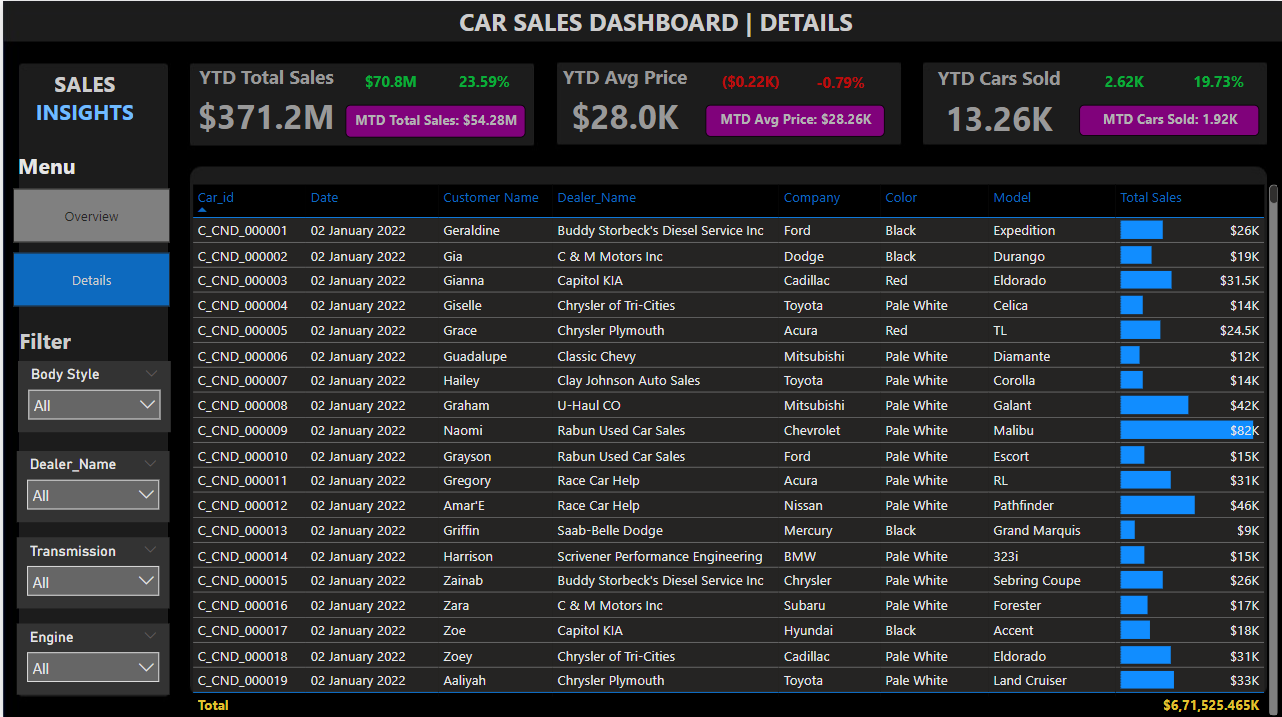

Layout of this report page (visuals, bound fields, positions):
{"tool":"powerbi","page":{"name":"Details","canvas":[1280,720],"ordinal":1},"visuals":[{"type":"card","title":"YTD Total Sales","fields":{"Values":["car_data.YTD Total Sales"]},"box":[183.4,62.7,159.3,82],"z":0},{"type":"card","fields":{"Values":["car_data.Sales Difference"]},"box":[342.6,62.7,90.5,41],"z":1000},{"type":"card","fields":{"Values":["car_data.YOY Sales Growth"]},"box":[433.1,62.7,97.7,41],"z":2000},{"type":"card","fields":{"Values":["car_data.MTD KPE"]},"box":[342.6,103.8,179.8,32.6],"z":3000},{"type":"card","title":"YTD Avg Price","fields":{"Values":["car_data.YTD Avg Price"]},"box":[543,63,159,82],"z":4000},{"type":"card","fields":{"Values":["car_data.Avg Price Diff"]},"box":[702,63,90,41],"z":5000},{"type":"card","fields":{"Values":["car_data.YOY Avg Price Growth"]},"box":[792,63,90,43],"z":6000},{"type":"card","fields":{"Values":["car_data.MTD Avg Price KPI"]},"box":[702,104,179,32],"z":7000},{"type":"card","title":"YTD Cars Sold","fields":{"Values":["car_data.YTD Cars Sold"]},"box":[916.2,63.8,160,82.5],"z":8000},{"type":"card","fields":{"Values":["car_data.Cars Sold Diff"]},"box":[1076.2,62.5,90,41.2],"z":9000},{"type":"card","fields":{"Values":["car_data.YOY Cars Sold Growth"]},"box":[1166.2,62.5,98.8,41.2],"z":10000},{"type":"card","fields":{"Values":["car_data.MTD Cars Sold KPI"]},"box":[1075.7,104.3,180,31.4],"z":11000},{"type":"textbox","box":[451.2,0,472.9,55.5],"z":12000},{"type":"slicer","fields":{"Values":["car_data.Body Style"]},"box":[15,360,152.5,71.2],"z":13000},{"type":"slicer","fields":{"Values":["car_data.Transmission"]},"box":[13.8,536.2,152.5,71.2],"z":14000},{"type":"slicer","fields":{"Values":["car_data.Engine"]},"box":[13.8,622.5,152.5,71.2],"z":15000},{"type":"slicer","fields":{"Values":["car_data.Dealer_Name"]},"box":[13.8,450,152.5,71.2],"z":16000},{"type":"textbox","box":[11.2,320,152.5,40],"z":17000},{"type":"tableEx","fields":{"Values":["car_data.Car_id","car_data.Date","car_data.Customer Name","car_data.Dealer_Name","car_data.Company","car_data.Color","car_data.Model","Sum(car_data.Price ($))"]},"box":[183.4,178.6,1096.7,541.7],"z":18000},{"type":"pageNavigator","box":[10,187.5,157.5,118.8],"z":19000},{"type":"textbox","box":[13.3,62.7,136.3,70],"z":20000},{"type":"textbox","box":[10,145,100,42.5],"z":20001}]}

Visuals, with their boxes in screenshot pixels (x1, y1, x2, y2), scaled from the page's 1280x720 canvas onto the 1282x717 screenshot:
"YTD Total Sales" card: pyautogui.locateOnScreen(184, 62, 343, 144)
card - car_data.Sales Difference: pyautogui.locateOnScreen(343, 62, 434, 103)
card - car_data.YOY Sales Growth: pyautogui.locateOnScreen(434, 62, 532, 103)
card - car_data.MTD KPE: pyautogui.locateOnScreen(343, 103, 523, 136)
"YTD Avg Price" card: pyautogui.locateOnScreen(544, 63, 703, 144)
card - car_data.Avg Price Diff: pyautogui.locateOnScreen(703, 63, 793, 104)
card - car_data.YOY Avg Price Growth: pyautogui.locateOnScreen(793, 63, 883, 106)
card - car_data.MTD Avg Price KPI: pyautogui.locateOnScreen(703, 104, 882, 135)
"YTD Cars Sold" card: pyautogui.locateOnScreen(918, 64, 1078, 146)
card - car_data.Cars Sold Diff: pyautogui.locateOnScreen(1078, 62, 1168, 103)
card - car_data.YOY Cars Sold Growth: pyautogui.locateOnScreen(1168, 62, 1267, 103)
card - car_data.MTD Cars Sold KPI: pyautogui.locateOnScreen(1077, 104, 1258, 135)
textbox: pyautogui.locateOnScreen(452, 0, 926, 55)
slicer - car_data.Body Style: pyautogui.locateOnScreen(15, 358, 168, 429)
slicer - car_data.Transmission: pyautogui.locateOnScreen(14, 534, 167, 605)
slicer - car_data.Engine: pyautogui.locateOnScreen(14, 620, 167, 691)
slicer - car_data.Dealer_Name: pyautogui.locateOnScreen(14, 448, 167, 519)
textbox: pyautogui.locateOnScreen(11, 319, 164, 358)
tableEx - car_data.Car_id x car_data.Date: pyautogui.locateOnScreen(184, 178, 1281, 716)
pageNavigator: pyautogui.locateOnScreen(10, 187, 168, 305)
textbox: pyautogui.locateOnScreen(13, 62, 150, 132)
textbox: pyautogui.locateOnScreen(10, 144, 110, 187)
